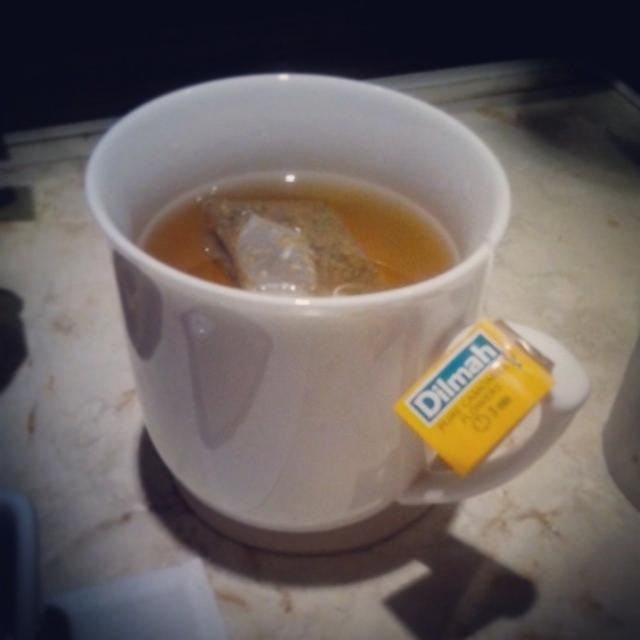Tea: (135, 167, 464, 296)
